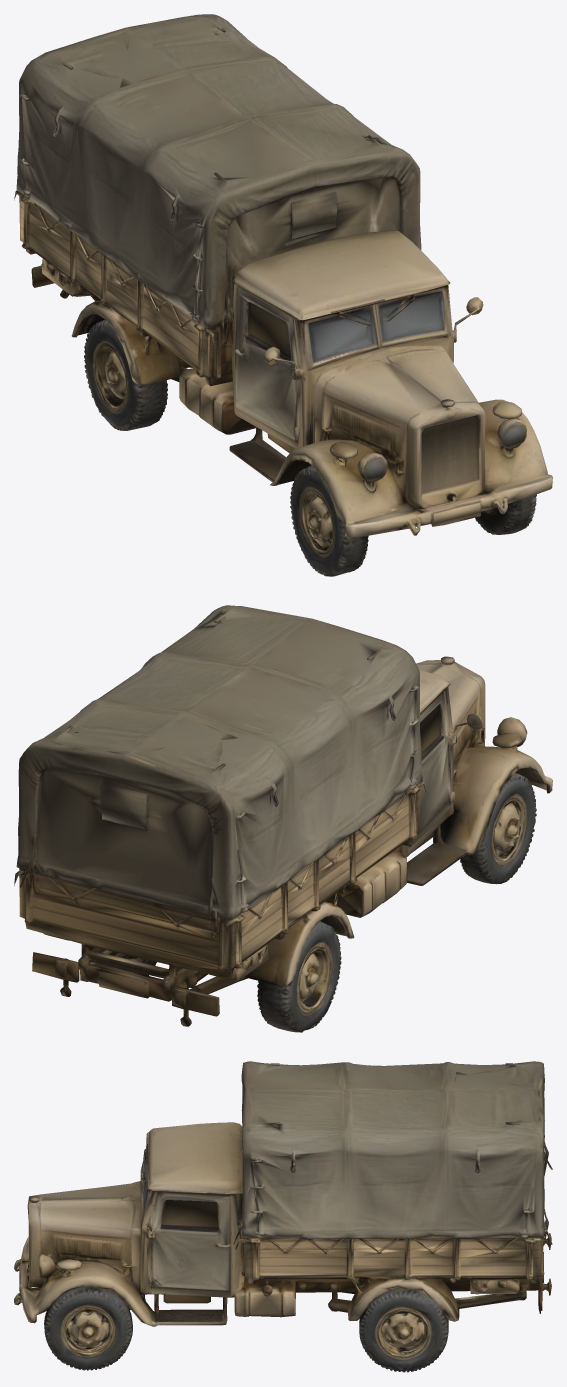
Rendered from ww2_truck.glb.
3 views of the same model, one above another, from view 1: azimuth 30°, elevation 25°; view 2: azimuth 150°, elevation 25°; view 3: azimuth 270°, elevation 25° (orthographic). The views are drawn at different scales.
Parts seen in each view (by area): view 1: node_0; view 2: node_0; view 3: node_0.
Part boxes in pixels (left/top/right/bottom): node_0: left=14, top=14, right=552, bottom=576; node_0: left=14, top=605, right=552, bottom=1032; node_0: left=14, top=1061, right=552, bottom=1372.
Bounding box in the file's own units: 0.4054 × 0.5434 × 1.08.
Materials: 1 (1 with a texture image).
